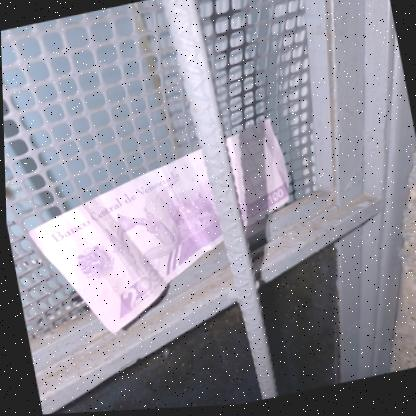one_hundred-back-vef: (15, 118, 310, 349)
